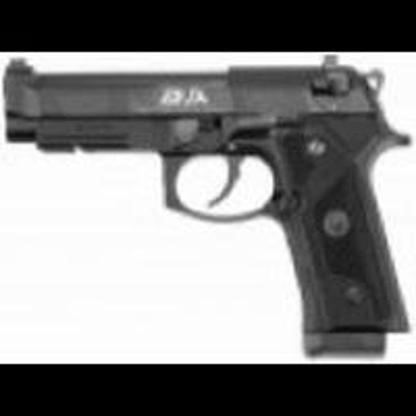weapon: (4, 50, 408, 362)
